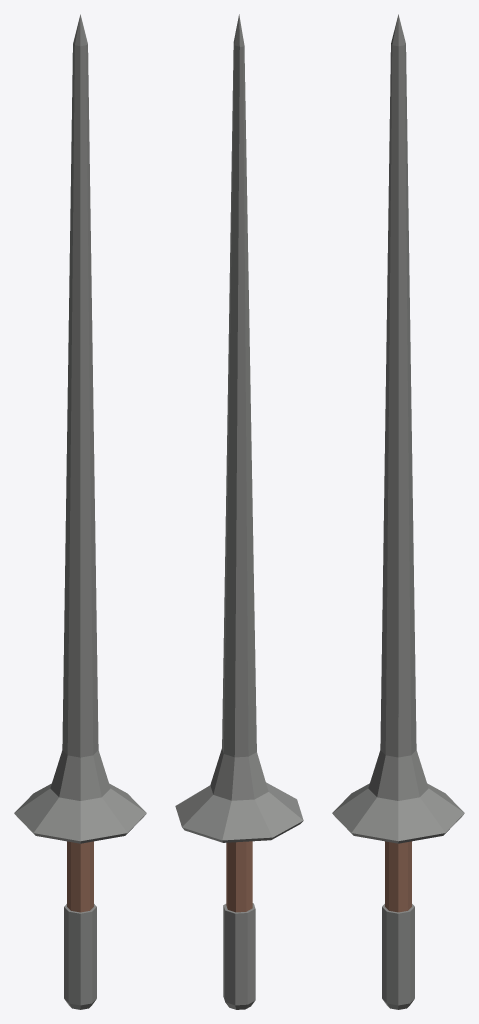
Rendered from Lance.glb.
3 renders of one model, left to right at view 1: azimuth 90°, elevation 25°; view 2: azimuth 210°, elevation 25°; view 3: azimuth 270°, elevation 25°, orthographic.
Visible parts, largest first — view 1: Lance; view 2: Lance; view 3: Lance.
Part boxes in pixels (box(x1,y1,x2,y2)): Lance: box(14, 14, 146, 1009); Lance: box(175, 14, 303, 1009); Lance: box(332, 14, 464, 1009).
Bounding box in the file's own units: 31.39 × 258 × 31.39.
